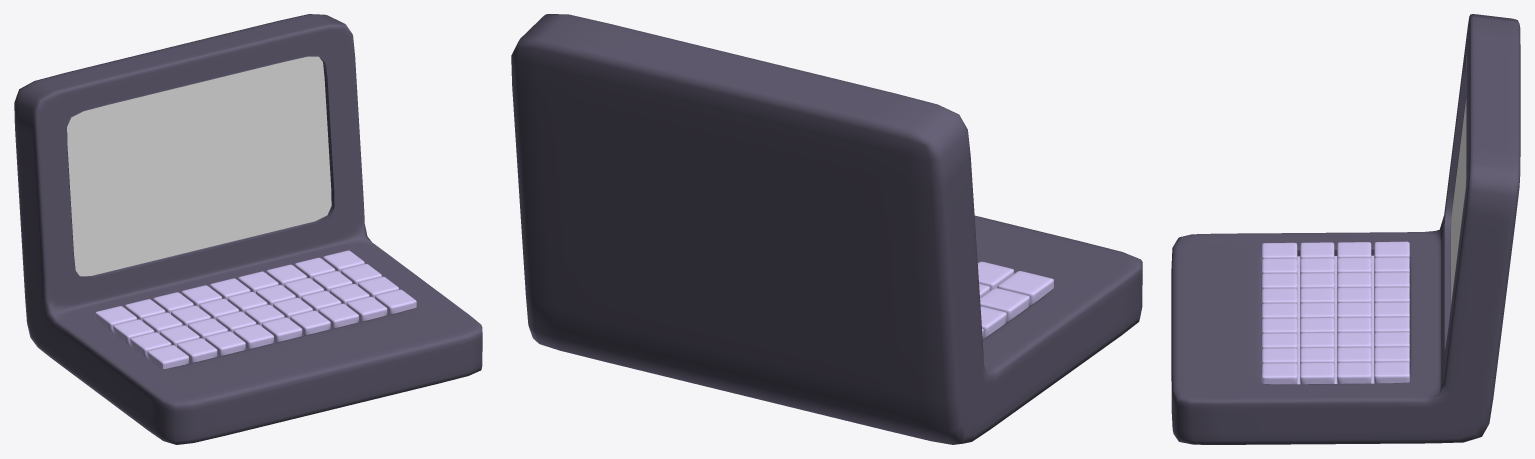
The model's file is laptop_7.glb.
The picture shows the model from 3 angles, left to right: view 1: azimuth 30°, elevation 25°; view 2: azimuth 150°, elevation 25°; view 3: azimuth 270°, elevation 25°; orthographic projection. The views are drawn at different scales.
Visible parts, largest first — view 1: laptop, screen; view 2: laptop; view 3: laptop, screen.
Part boxes in pixels (x1,y1,x2,y2): laptop: [14, 14, 482, 444]; screen: [67, 56, 331, 276]; laptop: [511, 14, 1142, 444]; laptop: [1171, 14, 1520, 444]; screen: [1451, 99, 1466, 304].
Size of the model in its own units: 3.21 by 2.43 by 2.81.
